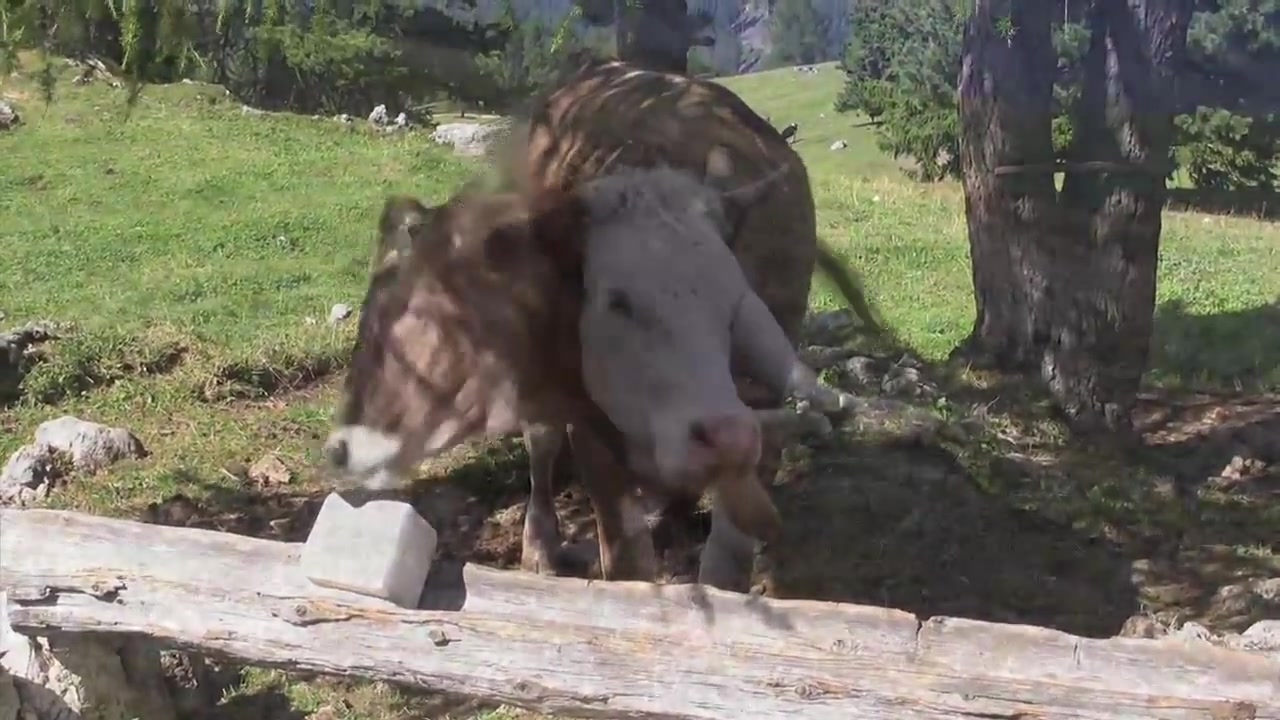cow: (350, 64, 817, 588)
